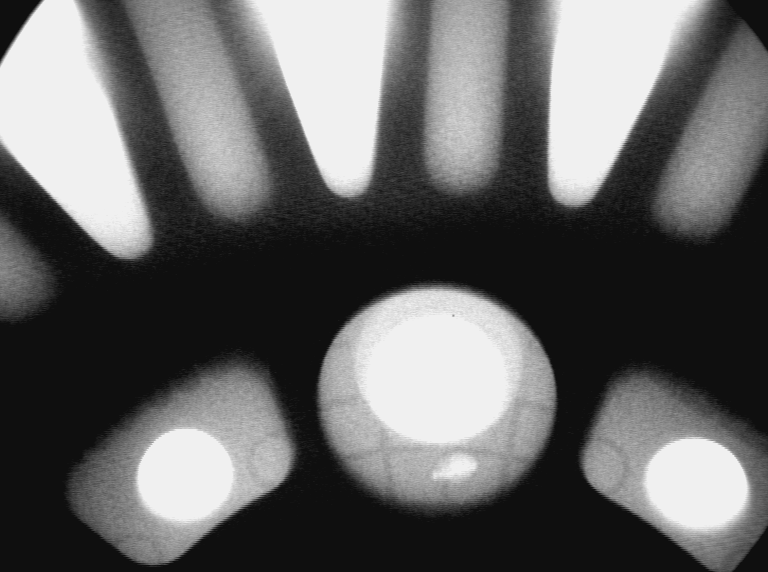defect: (430, 451, 480, 486)
